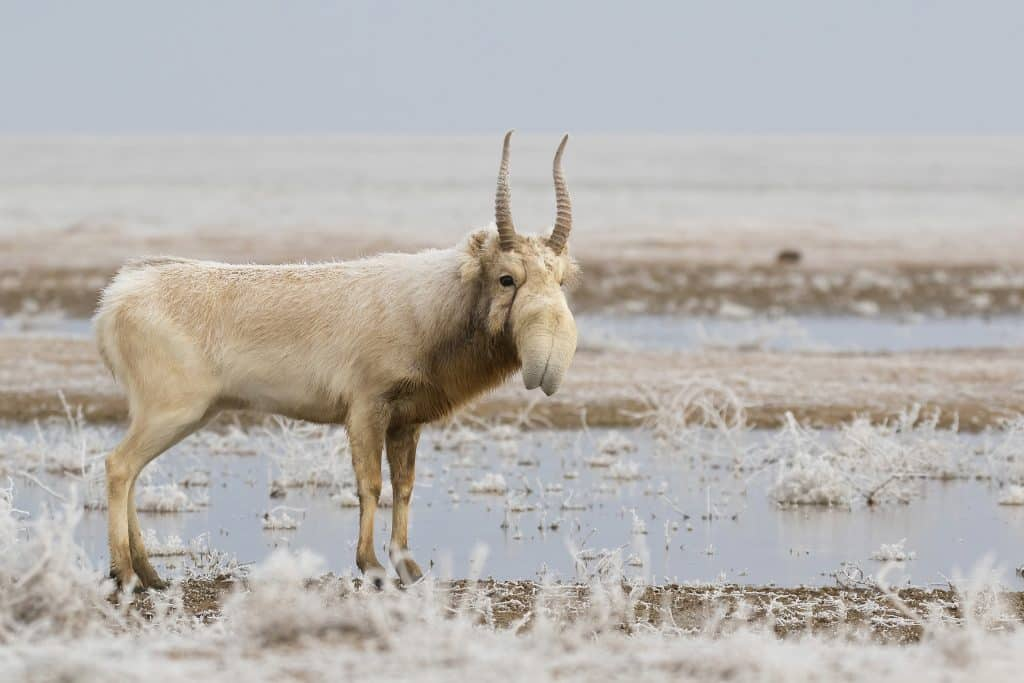saiga: (98, 128, 580, 602)
